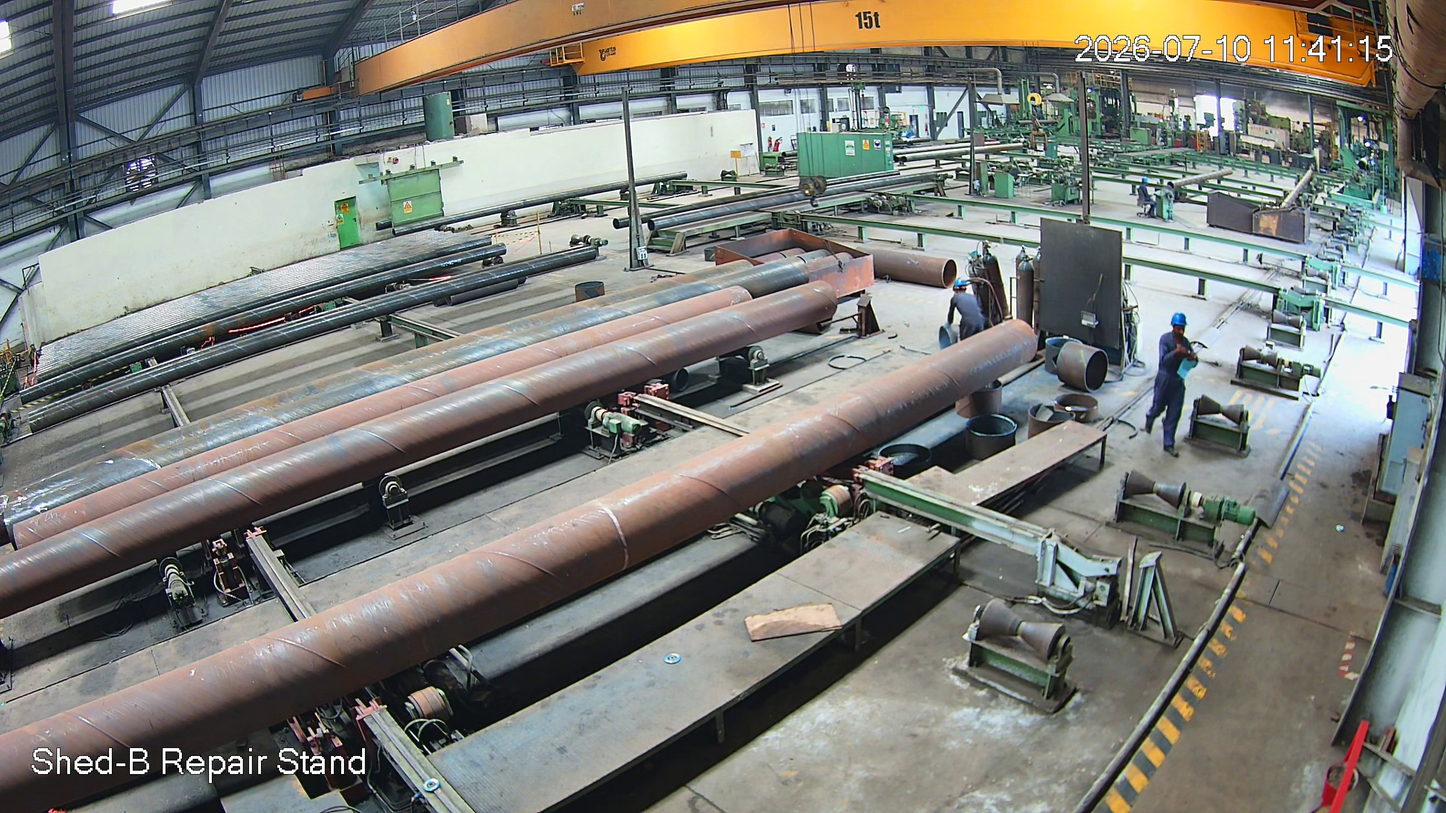Helmet: (1164, 308, 1191, 344), (952, 277, 976, 307), (1137, 173, 1153, 194)
Person: (1154, 310, 1199, 457), (943, 281, 991, 343), (1131, 176, 1160, 218)
